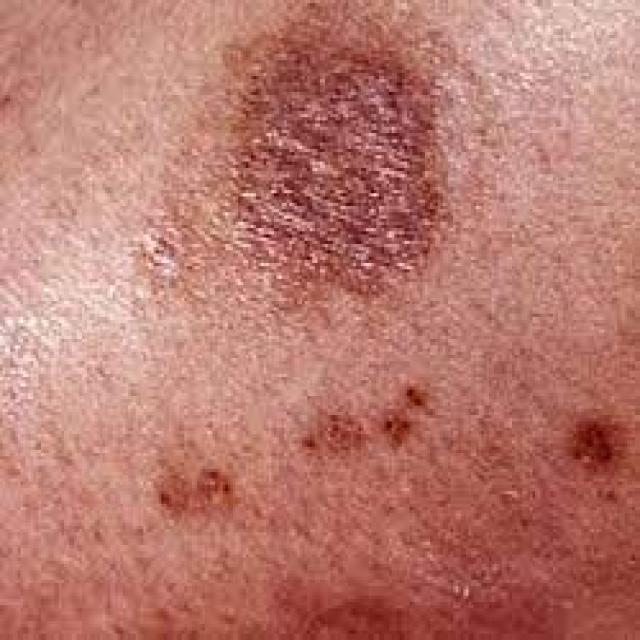kene: (189, 7, 506, 322), (127, 443, 258, 527), (287, 383, 378, 482), (553, 402, 631, 489), (380, 374, 442, 464)
